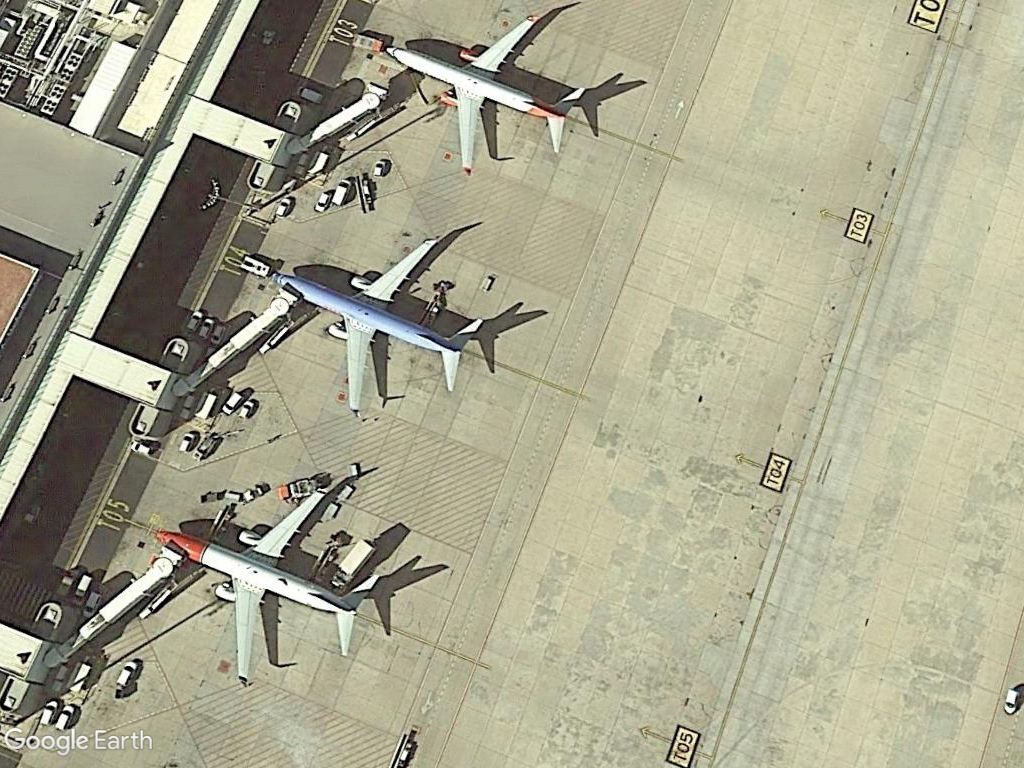airliner: (146, 474, 386, 688), (275, 227, 490, 423), (381, 4, 591, 181)
pushbacktruck: (236, 252, 274, 281)
